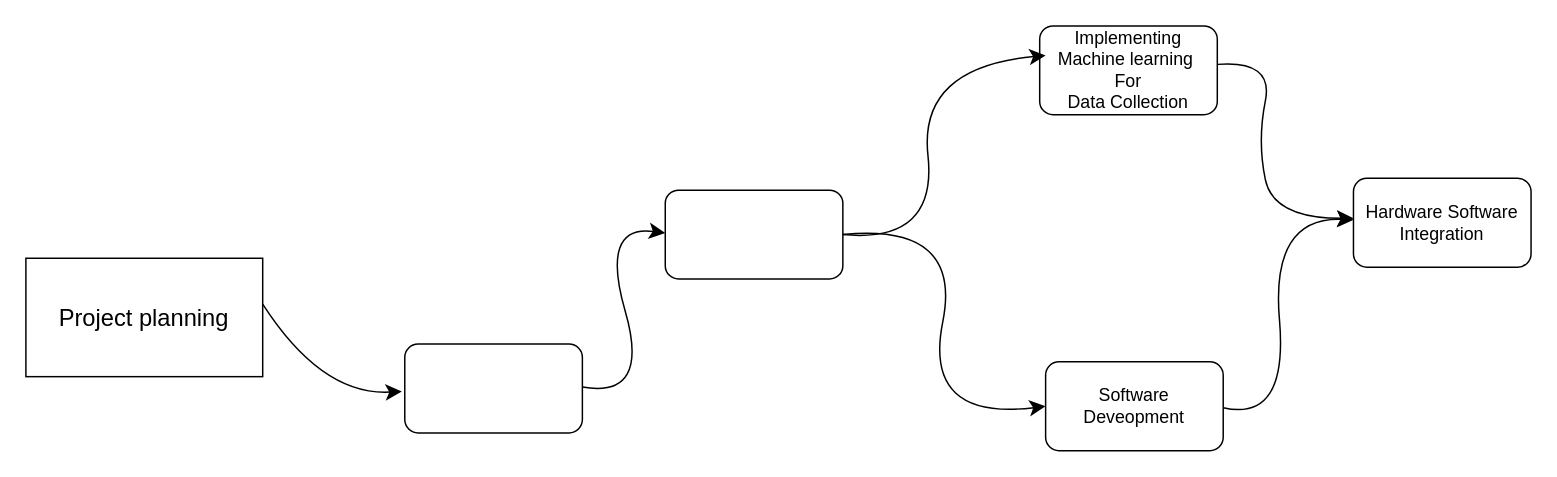
This 1557x477 diagram has some shape labels left out. The centre of each missing label's shape, as x and y in pixels:
Hardware sourcing IOT Device: the point at 753,234
Site Inspection: the point at 492,388
